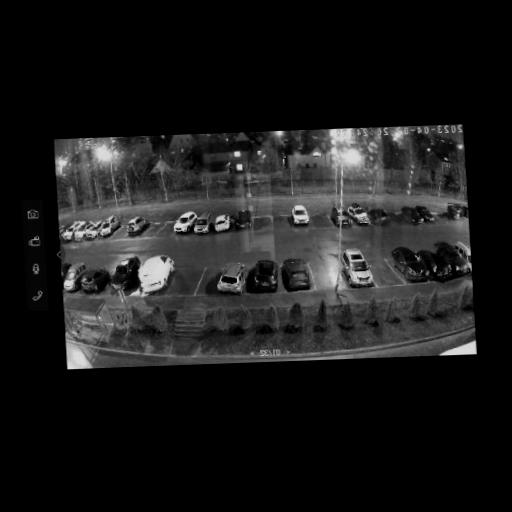busy: (386, 244, 431, 285), (132, 255, 178, 295), (432, 236, 470, 282), (341, 249, 378, 290), (415, 243, 452, 283), (104, 255, 145, 291), (248, 258, 281, 294), (210, 266, 248, 296), (281, 260, 313, 293), (77, 267, 108, 296), (171, 211, 202, 234), (60, 264, 83, 295), (341, 203, 371, 226), (285, 204, 315, 226), (94, 216, 123, 238), (210, 212, 239, 234), (58, 220, 85, 242), (72, 220, 97, 242), (122, 217, 150, 236), (400, 205, 422, 227), (235, 207, 253, 230), (366, 207, 389, 225), (330, 208, 350, 227), (414, 205, 432, 226)
free: (313, 259, 345, 294), (170, 265, 198, 296), (369, 255, 395, 286), (203, 267, 225, 291), (112, 221, 132, 240), (272, 210, 290, 231), (253, 211, 270, 233), (387, 210, 403, 228), (314, 213, 332, 228), (146, 222, 159, 237), (156, 224, 173, 235), (431, 213, 441, 225), (443, 212, 452, 222)
